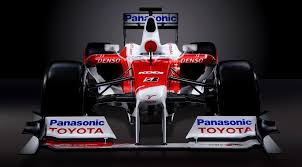FormulaOneCar: (19, 10, 282, 156)
